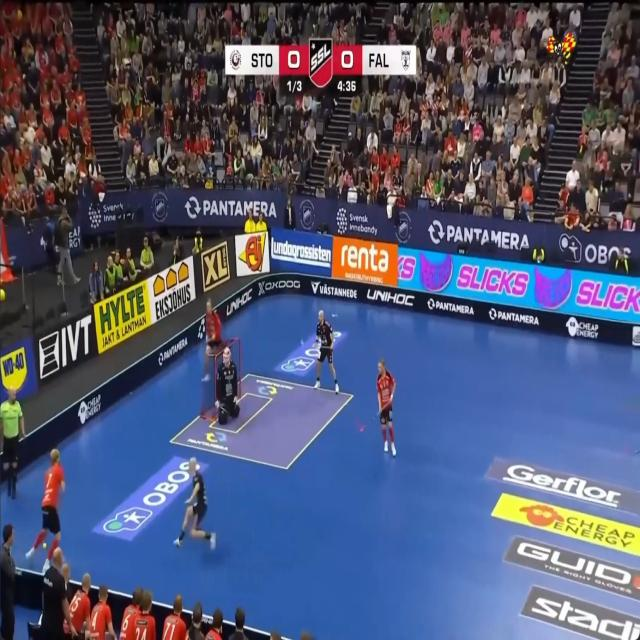Balls: (42, 542, 47, 548)
player: (26, 449, 64, 570), (174, 458, 215, 548), (314, 309, 339, 393), (376, 358, 396, 456), (215, 347, 239, 424), (89, 585, 117, 639), (203, 301, 222, 380), (70, 573, 91, 632), (120, 587, 143, 639), (162, 594, 186, 639), (134, 591, 156, 639), (64, 621, 70, 634)
stick: (374, 401, 392, 417)
